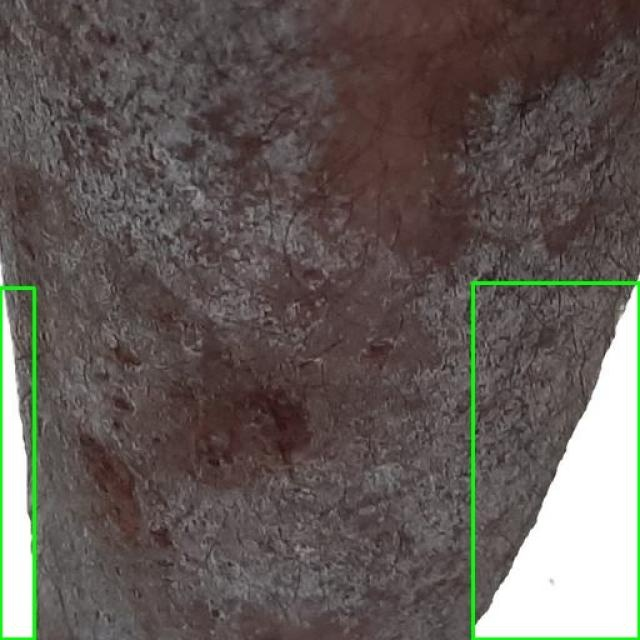Contact Dermatitis: (472, 282, 639, 639), (0, 288, 34, 639)
